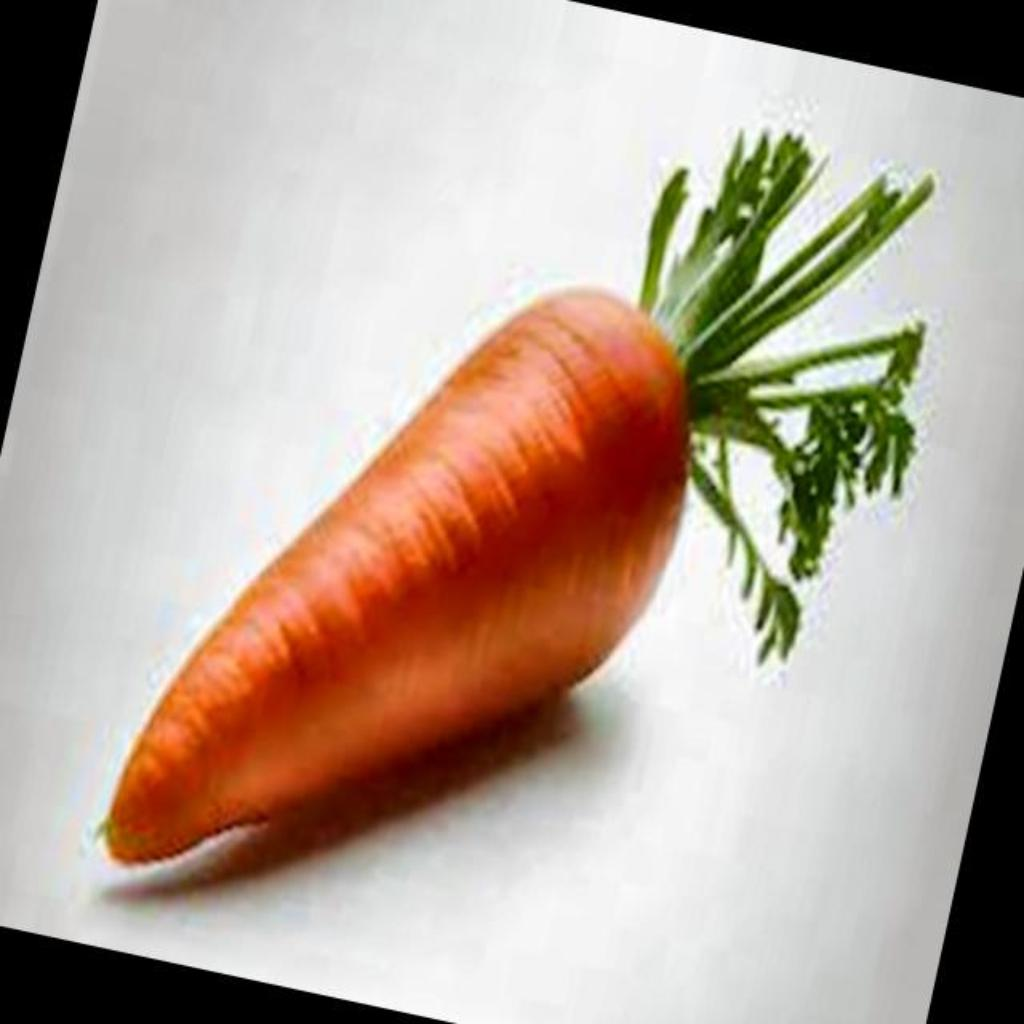carrot: (108, 134, 934, 859)
